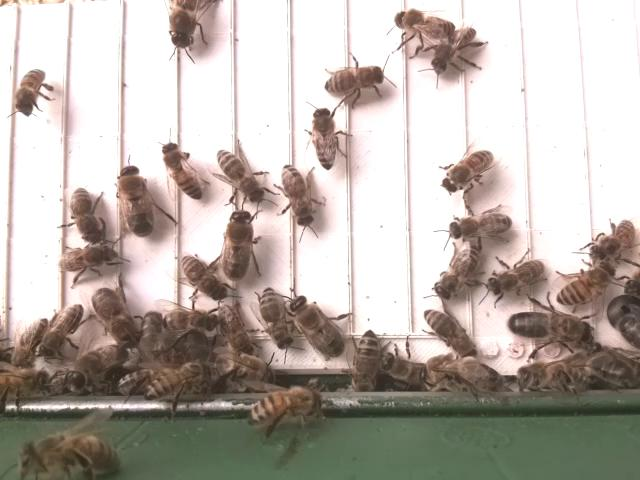Drone: (286, 292, 346, 360), (507, 307, 598, 349), (90, 285, 145, 353), (114, 163, 157, 240), (218, 206, 258, 284)
Worker: (214, 147, 265, 206), (161, 139, 205, 204), (421, 306, 474, 359), (434, 243, 482, 300), (37, 301, 84, 359), (440, 147, 495, 196), (430, 27, 486, 74), (558, 263, 616, 307), (280, 160, 316, 229), (446, 207, 516, 242), (216, 300, 258, 357), (66, 185, 105, 246), (487, 259, 547, 297), (258, 284, 294, 347), (179, 255, 228, 301), (589, 215, 636, 261), (391, 7, 456, 40), (350, 327, 382, 392), (309, 103, 339, 171), (322, 64, 385, 96), (56, 244, 119, 275), (160, 306, 220, 335), (17, 62, 48, 111)
